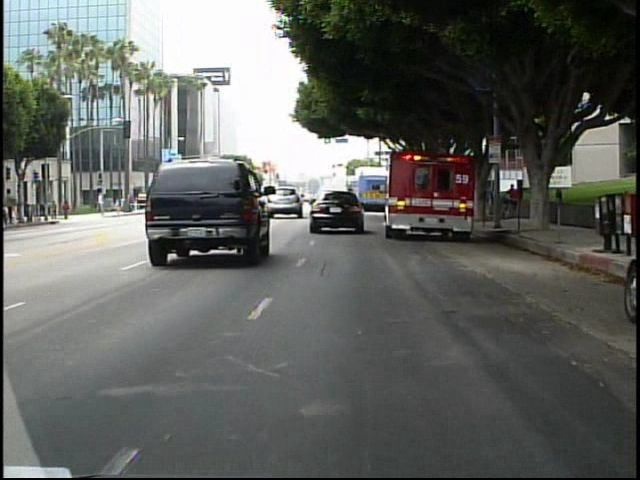person: (506, 182, 521, 223), (61, 197, 74, 222), (49, 198, 61, 222)
